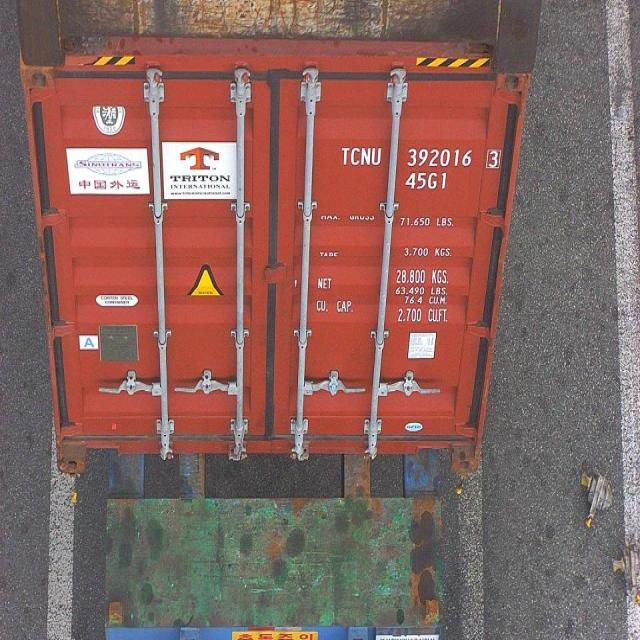ISO: (408, 170, 449, 190)
container_number: (342, 146, 500, 168)
